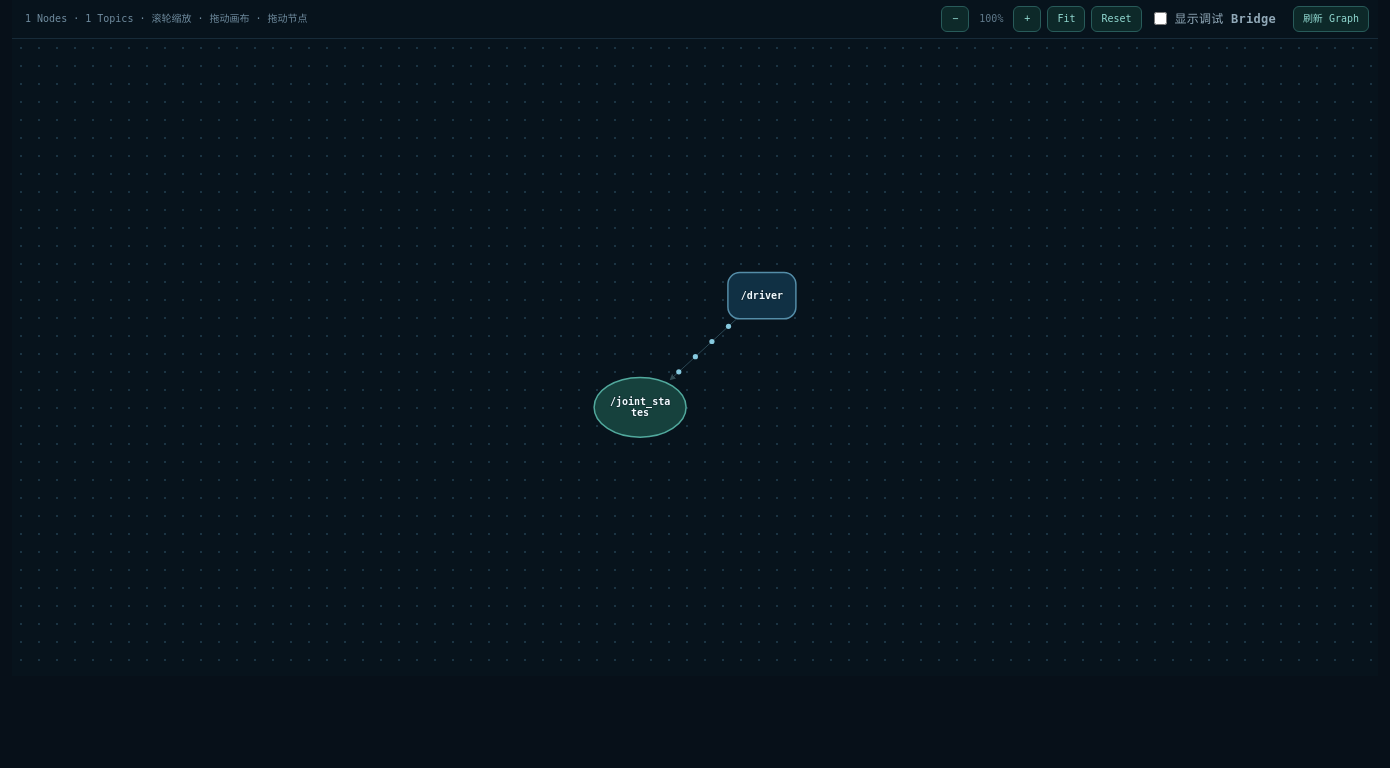
Test case: TopicGraph › exposes zoom controls and fits the camera
The width and height of the screenshot is (1390, 768).
Check: the button "Topic /joint_states" is shown, box [610,395,670,417]
Check: the text "100%" is shown, box [979,13,1003,24]
Click the button named "放大" at (1027, 19), box [1013,6,1041,32]
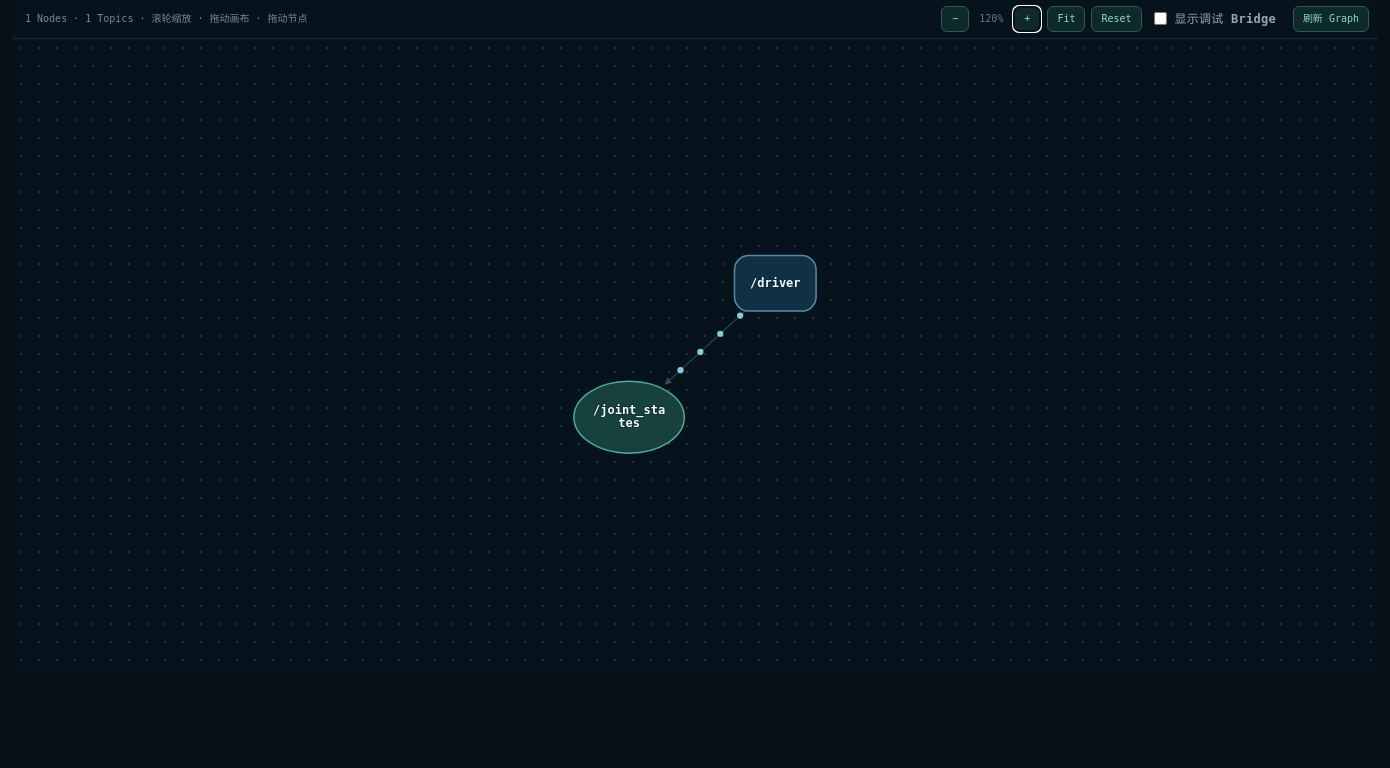
Click the button "Fit" at (1066, 19), box [1047,6,1086,32]
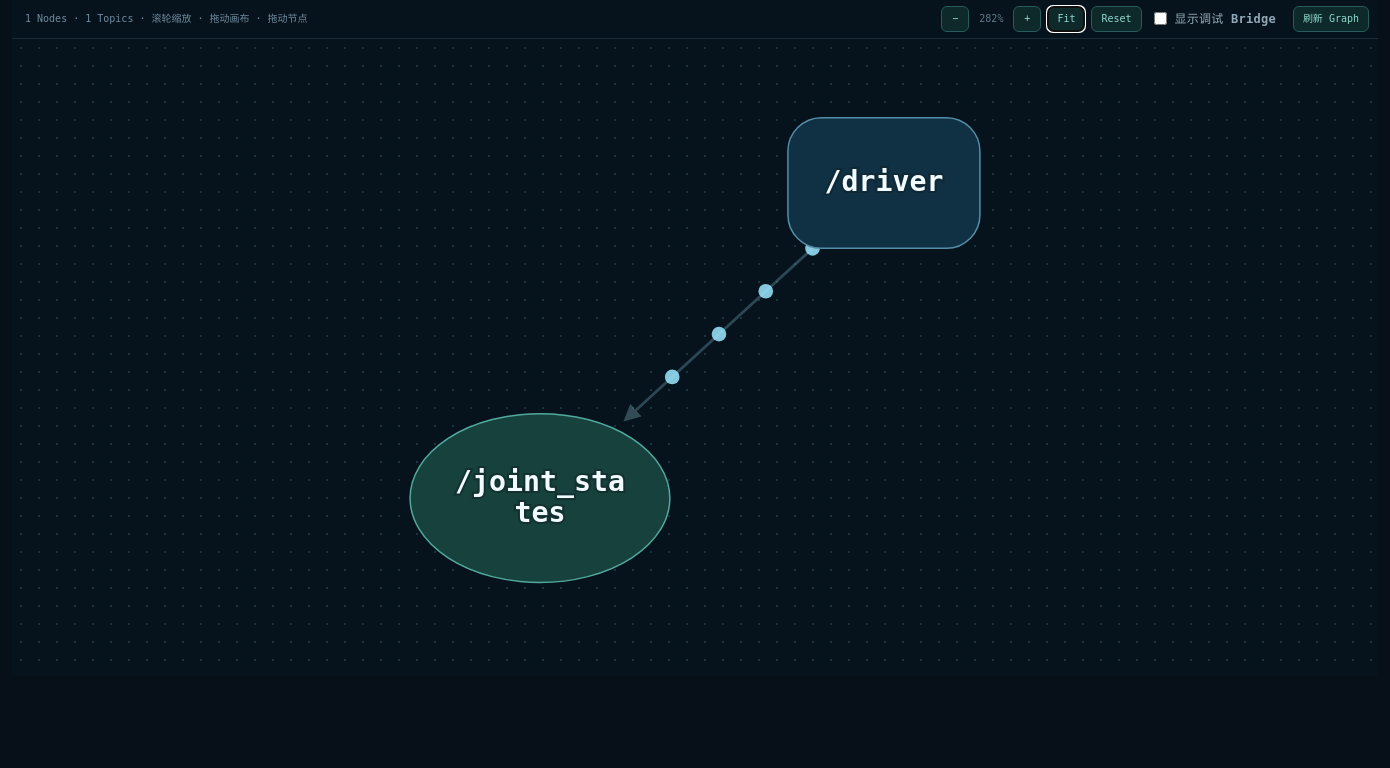
Click the button "Reset" at (1116, 19), box [1091,6,1142,32]
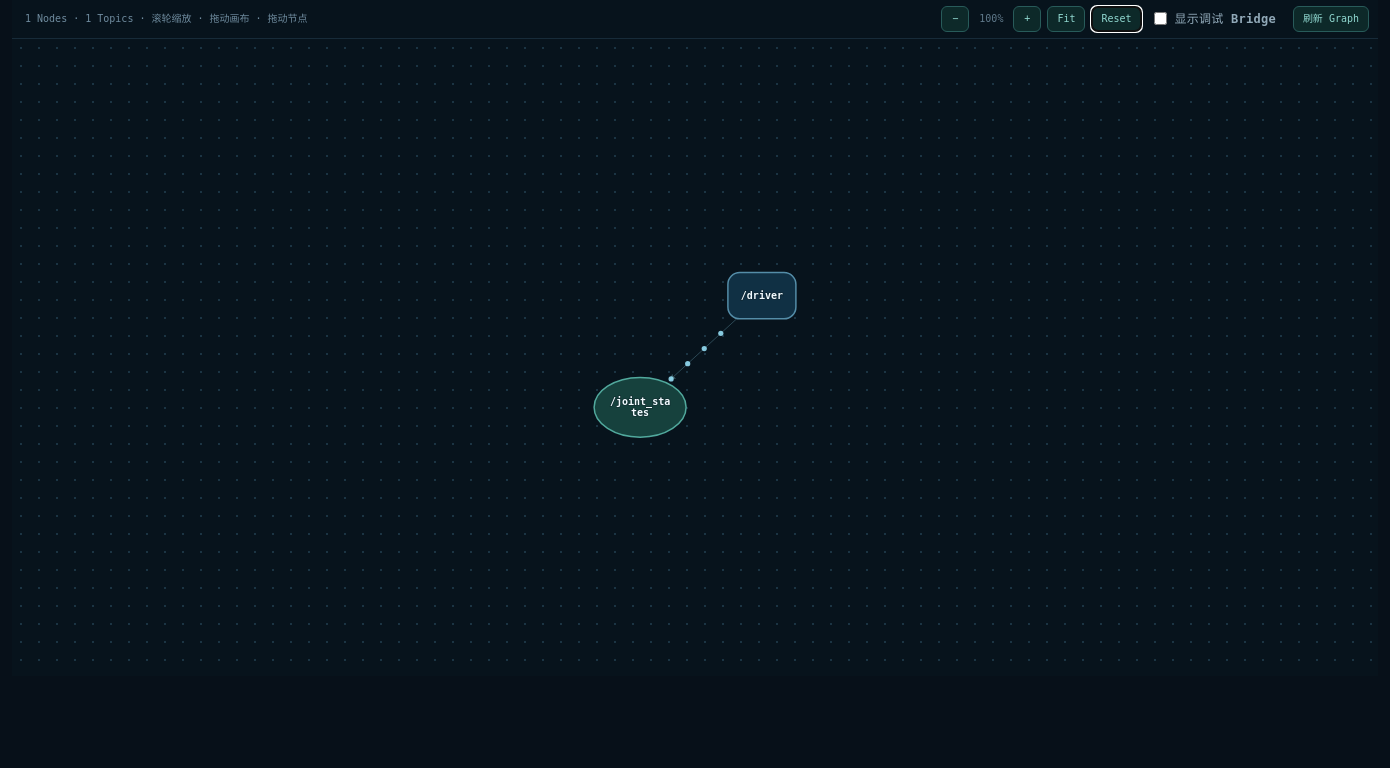
Check: the text "100%" is shown, box [979,13,1003,24]
